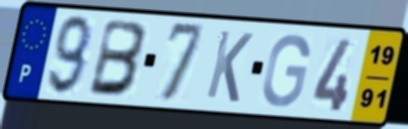4: (309, 34, 353, 115)
7: (161, 19, 205, 105)
9: (46, 13, 96, 98)
B: (85, 16, 150, 99)
G: (260, 31, 312, 109)
K: (203, 27, 256, 106)
